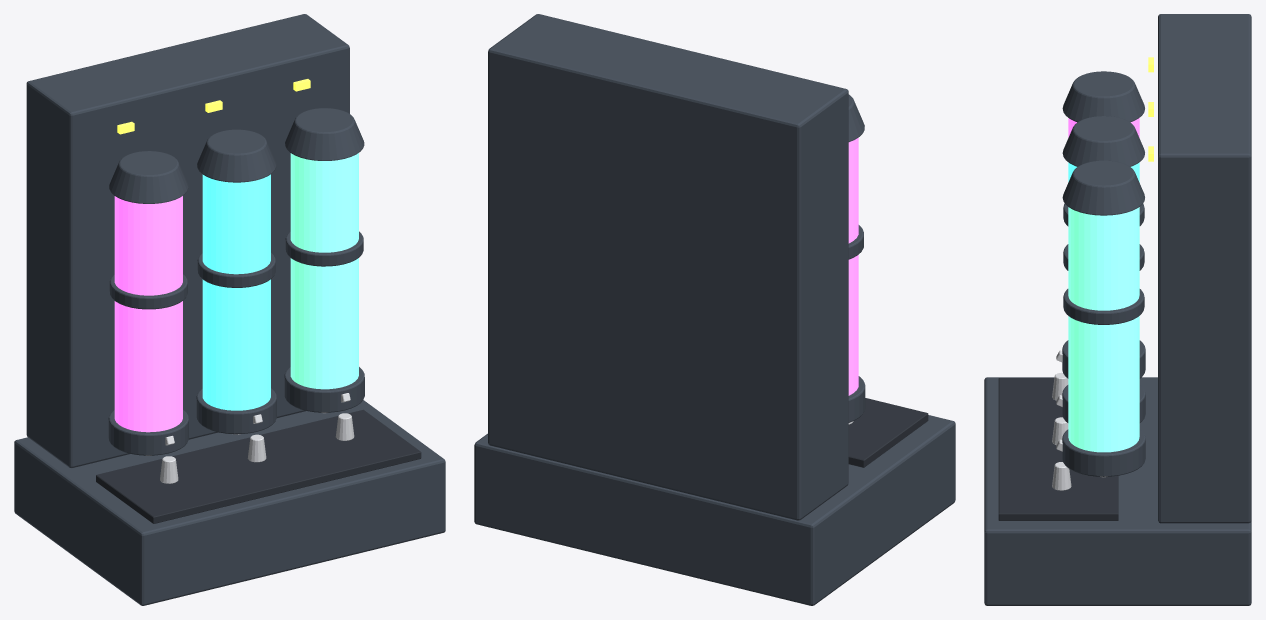
Rendered from cantina_08_drink_dispenser.glb.
3 renders of one model, left to right at view 1: azimuth 30°, elevation 25°; view 2: azimuth 150°, elevation 25°; view 3: azimuth 270°, elevation 25°, orthographic. The views are drawn at different scales.
Visible parts, largest first — view 1: Dispenser_Base_Chassis, Dispenser_Drip_Tray, Fluid_Right_Green, Fluid_Center_Cyan, Fluid_Left_Purple, Caps_Center_Cyan, Caps_Left_Purple, Caps_Right_Green, Dispenser_Spigots; view 2: Dispenser_Base_Chassis, Dispenser_Drip_Tray, Fluid_Left_Purple, Caps_Left_Purple; view 3: Dispenser_Base_Chassis, Fluid_Right_Green, Dispenser_Drip_Tray, Caps_Right_Green, Caps_Center_Cyan, Caps_Left_Purple, Dispenser_Spigots.
Boxes of the visible parts, x1,y1,x2,y2 form: Dispenser_Base_Chassis: [14, 14, 445, 605]; Dispenser_Drip_Tray: [96, 409, 421, 523]; Fluid_Right_Green: [290, 153, 358, 389]; Fluid_Center_Cyan: [202, 174, 270, 410]; Fluid_Left_Purple: [114, 196, 182, 432]; Caps_Center_Cyan: [196, 129, 276, 434]; Caps_Left_Purple: [108, 151, 188, 455]; Caps_Right_Green: [284, 108, 364, 412]; Dispenser_Spigots: [146, 393, 354, 483]; Dispenser_Base_Chassis: [474, 14, 955, 605]; Dispenser_Drip_Tray: [848, 398, 928, 467]; Fluid_Left_Purple: [848, 137, 858, 395]; Caps_Left_Purple: [848, 94, 865, 422]; Dispenser_Base_Chassis: [984, 14, 1251, 605]; Fluid_Right_Green: [1068, 207, 1139, 452]; Dispenser_Drip_Tray: [998, 378, 1118, 520]; Caps_Right_Green: [1062, 160, 1145, 476]; Caps_Center_Cyan: [1062, 116, 1145, 422]; Caps_Left_Purple: [1062, 71, 1145, 378]; Dispenser_Spigots: [1052, 350, 1107, 490].
Bounding box in the file's own units: 0.52 × 0.7 × 0.38.
